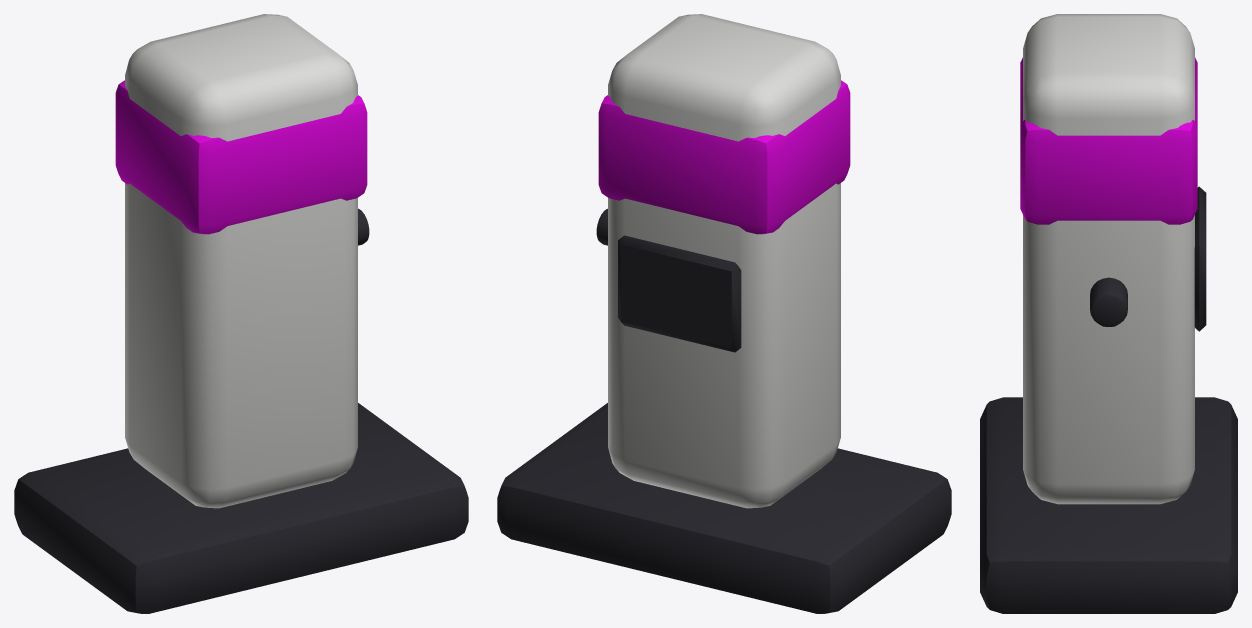
File: Prop_Pump.fbx
The picture shows the model from 3 angles, left to right: view 1: azimuth 30°, elevation 25°; view 2: azimuth 150°, elevation 25°; view 3: azimuth 270°, elevation 25°; orthographic projection.
Visible parts, largest first — view 1: Prop_Pump; view 2: Prop_Pump; view 3: Prop_Pump.
Part boxes in pixels (x1,y1,x2,y2): Prop_Pump: (14,14,468,613); Prop_Pump: (497,14,951,613); Prop_Pump: (980,14,1237,613).
Bounding box in the file's own units: 1.4 × 1.9 × 0.9.
